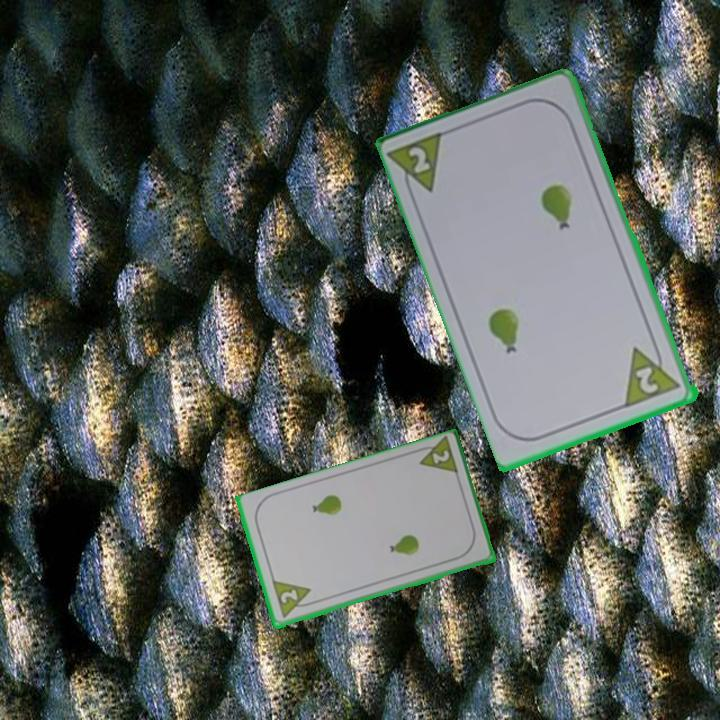2p: (411, 435, 461, 479), (269, 578, 317, 621), (632, 363, 662, 397), (405, 143, 434, 177)
